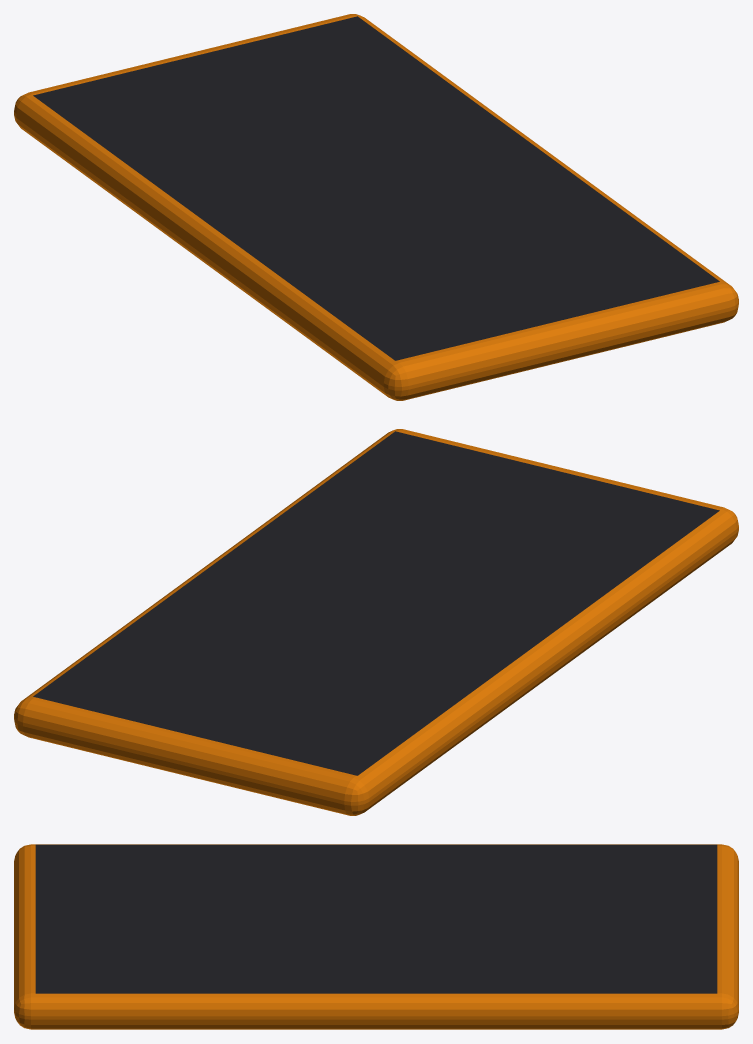
File: Phone_745.glb
The picture shows the model from 3 angles, top to bottom: view 1: azimuth 30°, elevation 25°; view 2: azimuth 150°, elevation 25°; view 3: azimuth 270°, elevation 25°; orthographic projection. The views are drawn at different scales.
Parts seen in each view (by area): view 1: Phone_Screen, Phone_Body; view 2: Phone_Screen, Phone_Body; view 3: Phone_Screen, Phone_Body.
Part boxes in pixels (x1,y1,x2,y2): Phone_Screen: (33,16,719,360); Phone_Body: (14,14,738,400); Phone_Screen: (33,431,719,775); Phone_Body: (14,429,738,815); Phone_Screen: (35,844,717,993); Phone_Body: (14,844,738,1029).
Size of the model in its own units: 0.0744 by 0.0075 by 0.1408.
